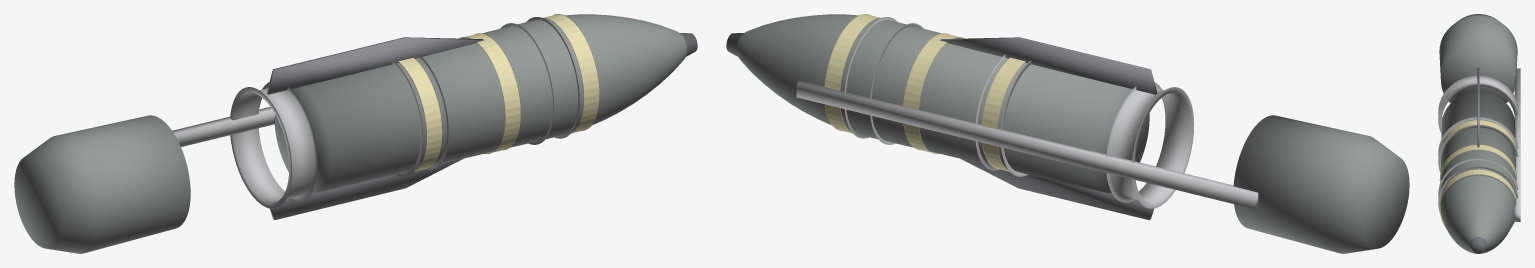
File: CN_SLBM_JL3_LOD0.fbx
3 renders of one model, left to right at view 1: azimuth 30°, elevation 25°; view 2: azimuth 150°, elevation 25°; view 3: azimuth 270°, elevation 25°, orthographic. The views are drawn at different scales.
Parts seen in each view (by area): view 1: WPN_CN_SLBM_JL3_LOD0_Body, WPN_CN_SLBM_JL3_LOD0_Tail, WPN_CN_SLBM_JL3_LOD0_Detail, WPN_CN_SLBM_JL3_LOD0_Marking; view 2: WPN_CN_SLBM_JL3_LOD0_Body, WPN_CN_SLBM_JL3_LOD0_Detail, WPN_CN_SLBM_JL3_LOD0_Tail, WPN_CN_SLBM_JL3_LOD0_Marking; view 3: WPN_CN_SLBM_JL3_LOD0_Body, WPN_CN_SLBM_JL3_LOD0_Tail, WPN_CN_SLBM_JL3_LOD0_Detail, WPN_CN_SLBM_JL3_LOD0_Marking, WPN_CN_SLBM_JL3_LOD0_Nose.
Boxes of the visible parts, left/top/right/bottom form: WPN_CN_SLBM_JL3_LOD0_Body: left=274, top=14, right=687, bottom=193; WPN_CN_SLBM_JL3_LOD0_Tail: left=14, top=115, right=190, bottom=253; WPN_CN_SLBM_JL3_LOD0_Detail: left=172, top=17, right=579, bottom=219; WPN_CN_SLBM_JL3_LOD0_Marking: left=398, top=14, right=599, bottom=171; WPN_CN_SLBM_JL3_LOD0_Body: left=736, top=14, right=1149, bottom=193; WPN_CN_SLBM_JL3_LOD0_Detail: left=796, top=17, right=1258, bottom=219; WPN_CN_SLBM_JL3_LOD0_Tail: left=1233, top=115, right=1409, bottom=253; WPN_CN_SLBM_JL3_LOD0_Marking: left=824, top=14, right=1025, bottom=171; WPN_CN_SLBM_JL3_LOD0_Body: left=1440, top=92, right=1516, bottom=253; WPN_CN_SLBM_JL3_LOD0_Tail: left=1439, top=14, right=1517, bottom=103; WPN_CN_SLBM_JL3_LOD0_Detail: left=1438, top=67, right=1520, bottom=221; WPN_CN_SLBM_JL3_LOD0_Marking: left=1439, top=120, right=1516, bottom=227; WPN_CN_SLBM_JL3_LOD0_Nose: left=1441, top=174, right=1515, bottom=253.
Bounding box in the file's own units: 14 × 2.37 × 3.06.
